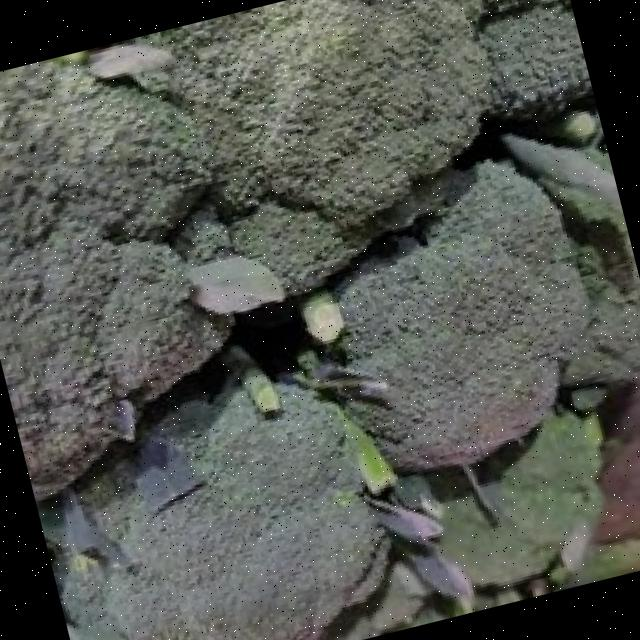Broccoli: (138, 0, 588, 226), (138, 0, 587, 226), (0, 59, 228, 498), (0, 59, 227, 498), (63, 376, 388, 640), (65, 380, 387, 640), (335, 160, 587, 467), (335, 161, 587, 467), (438, 410, 603, 584), (441, 411, 601, 584)
